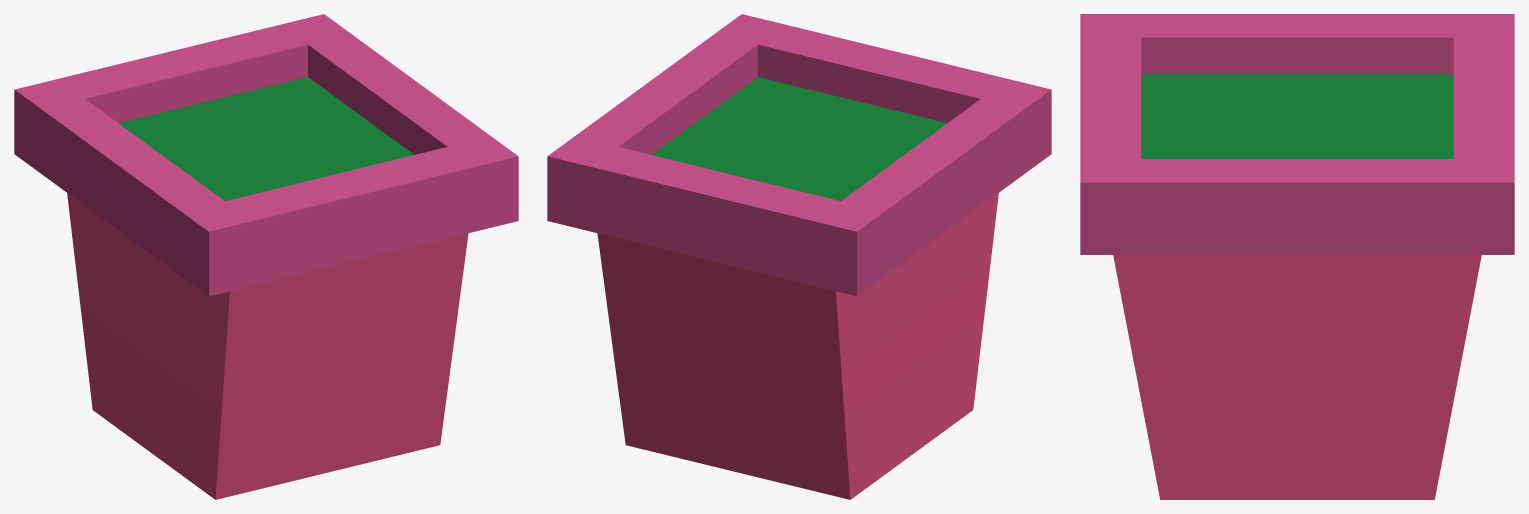
The model's file is FlowerPot_5_3_D.fbx.
The picture shows the model from 3 angles, left to right: view 1: azimuth 30°, elevation 25°; view 2: azimuth 150°, elevation 25°; view 3: azimuth 270°, elevation 25°; orthographic projection. The views are drawn at different scales.
Visible parts, largest first — view 1: FlowerPot_5_3_D; view 2: FlowerPot_5_3_D; view 3: FlowerPot_5_3_D.
Boxes of the visible parts, x1,y1,x2,y2 form: FlowerPot_5_3_D: (14, 14, 518, 499); FlowerPot_5_3_D: (547, 14, 1051, 499); FlowerPot_5_3_D: (1080, 14, 1514, 499).
Size of the model in its own units: 32.46 by 30.52 by 35.3.
